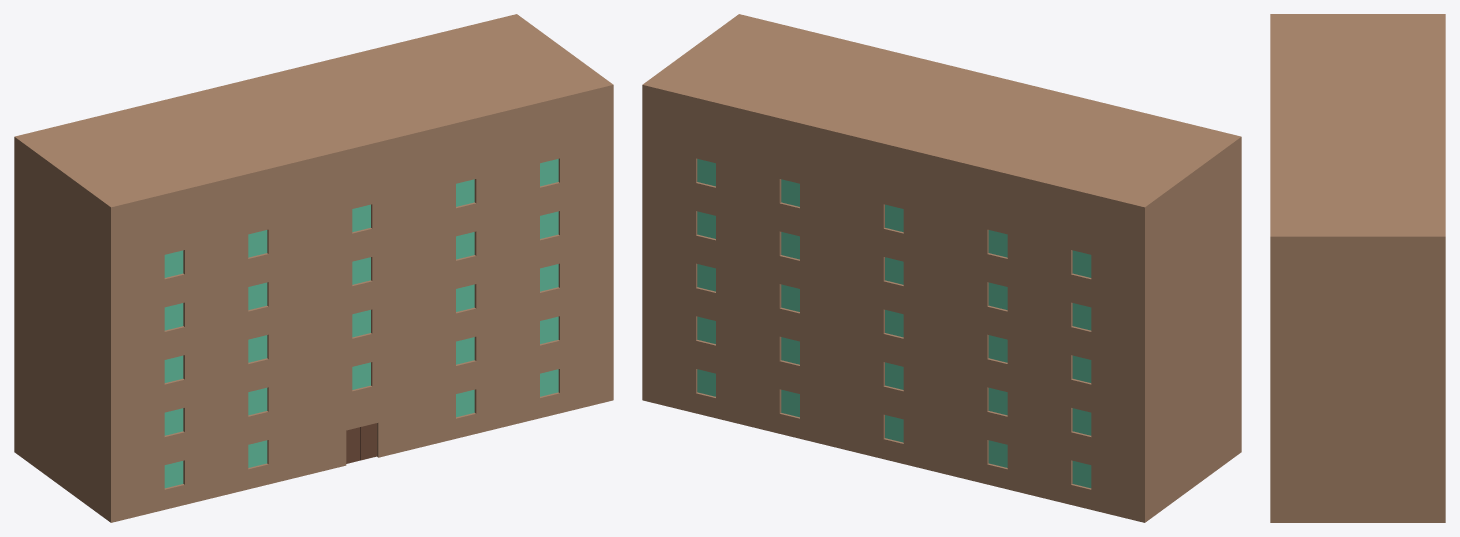
File: skyscraper5.fbx
3 views of the same model, side by side, from view 1: azimuth 30°, elevation 25°; view 2: azimuth 150°, elevation 25°; view 3: azimuth 270°, elevation 25° (orthographic). The views are drawn at different scales.
Parts seen in each view (by area): view 1: Cube.003; view 2: Cube.003; view 3: Cube.003.
Part boxes in pixels (x1,y1,x2,y2): Cube.003: (14,14,613,522); Cube.003: (642,14,1241,522); Cube.003: (1270,14,1445,522).
Size of the model in its own units: 3000 by 1800 by 1000.
